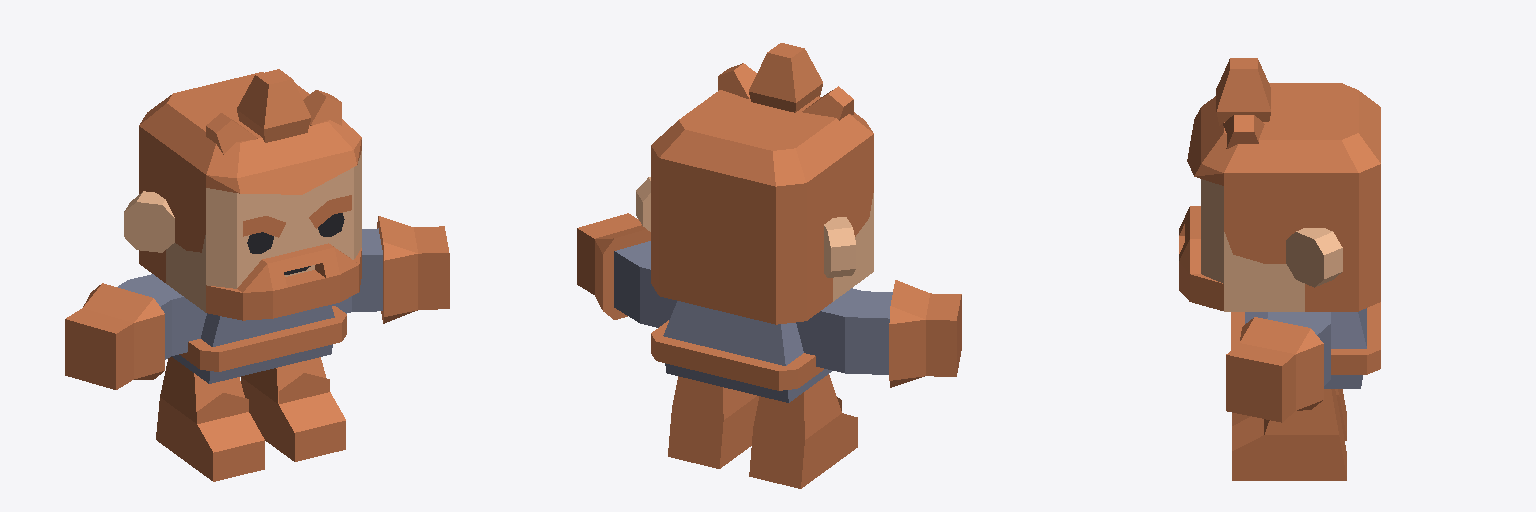
Rendered from character-human.obj.
3 renders of one model, left to right at view 1: azimuth 30°, elevation 25°; view 2: azimuth 150°, elevation 25°; view 3: azimuth 270°, elevation 25°, orthographic.
Visible parts, largest first — view 1: head, arm-right, leg-right, body, arm-left, leg-left; view 2: head, arm-right, body, leg-right, arm-left, leg-left; view 3: head, arm-left, leg-left, body.
Part boxes in pixels (left/top/right/bottom): head: left=124, top=69, right=361, bottom=320; arm-right: left=65, top=274, right=206, bottom=389; leg-right: left=156, top=357, right=264, bottom=481; body: left=171, top=305, right=346, bottom=383; arm-left: left=332, top=216, right=449, bottom=323; leg-left: left=241, top=357, right=345, bottom=461; head: left=636, top=43, right=873, bottom=324; arm-right: left=796, top=280, right=961, bottom=387; body: left=651, top=301, right=831, bottom=402; leg-right: left=749, top=374, right=857, bottom=488; arm-left: left=577, top=213, right=676, bottom=327; leg-left: left=668, top=376, right=758, bottom=468; head: left=1179, top=58, right=1380, bottom=311; arm-left: left=1226, top=312, right=1330, bottom=422; leg-left: left=1232, top=389, right=1346, bottom=480; body: left=1231, top=302, right=1380, bottom=388.
Size of the model in its own units: 0.7806 by 0.7553 by 0.3605.